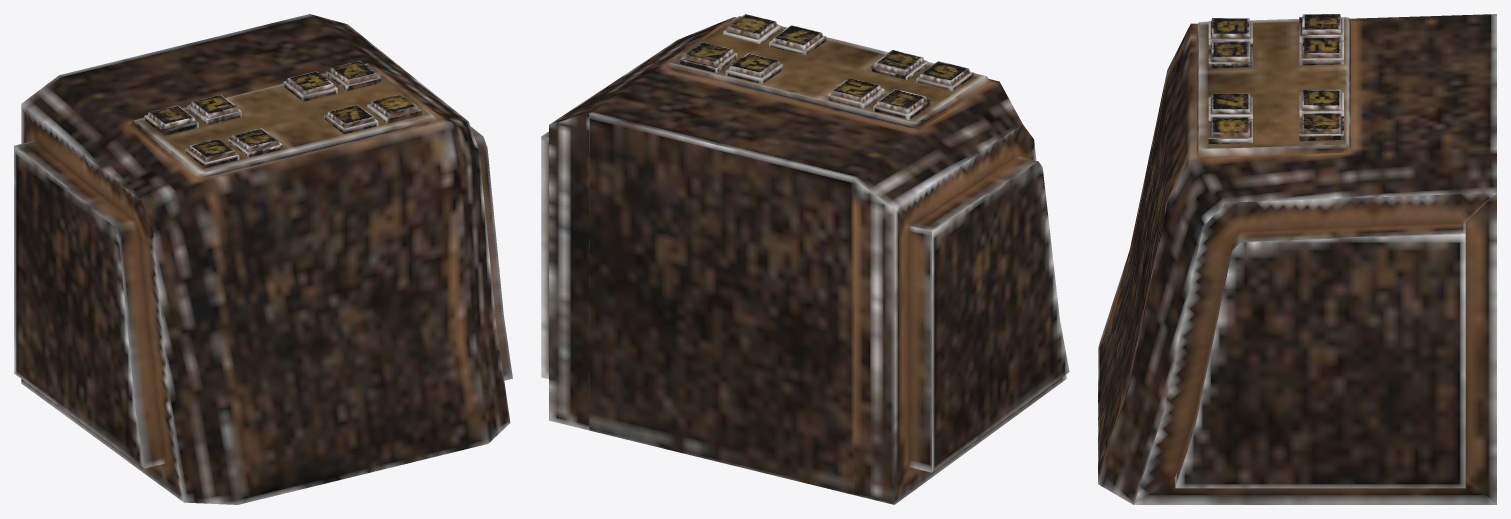
The model's file is bunker_terminal.2932413d64.glb.
The picture shows the model from 3 angles, left to right: view 1: azimuth 30°, elevation 25°; view 2: azimuth 150°, elevation 25°; view 3: azimuth 270°, elevation 25°; orthographic projection. The views are drawn at different scales.
Parts seen in each view (by area): view 1: bunker_terminal; view 2: bunker_terminal; view 3: bunker_terminal.
Boxes of the visible parts, left/top/right/bottom form: bunker_terminal: left=14, top=14, right=512, bottom=504; bunker_terminal: left=541, top=14, right=1069, bottom=504; bunker_terminal: left=1098, top=14, right=1496, bottom=504.
Size of the model in its own units: 1.5 by 1.2 by 1.26.
Materials: 1 (1 with a texture image).
